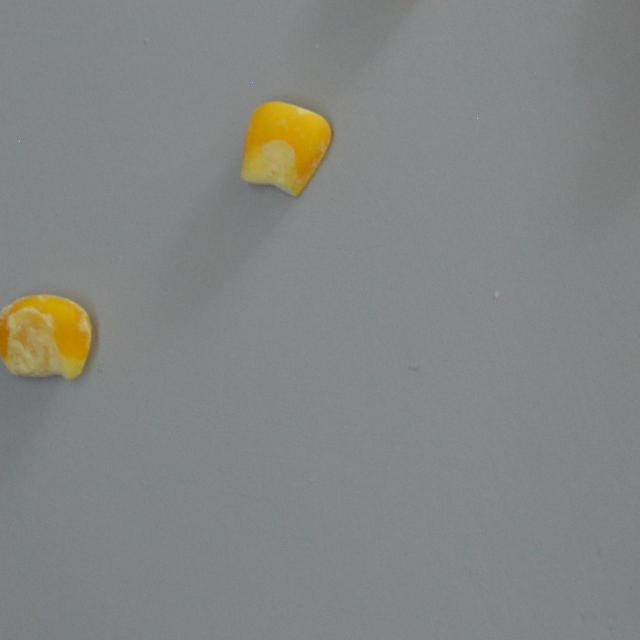no_desgerminado: (235, 98, 332, 195)
pelicula: (0, 292, 94, 380)
